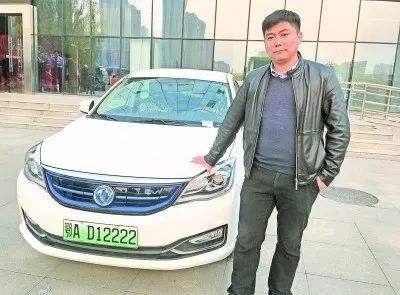plate: (59, 214, 142, 256)
